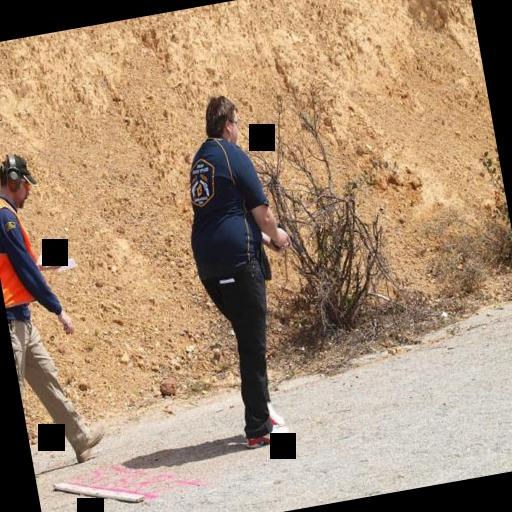Handgun: (267, 213, 303, 257)
